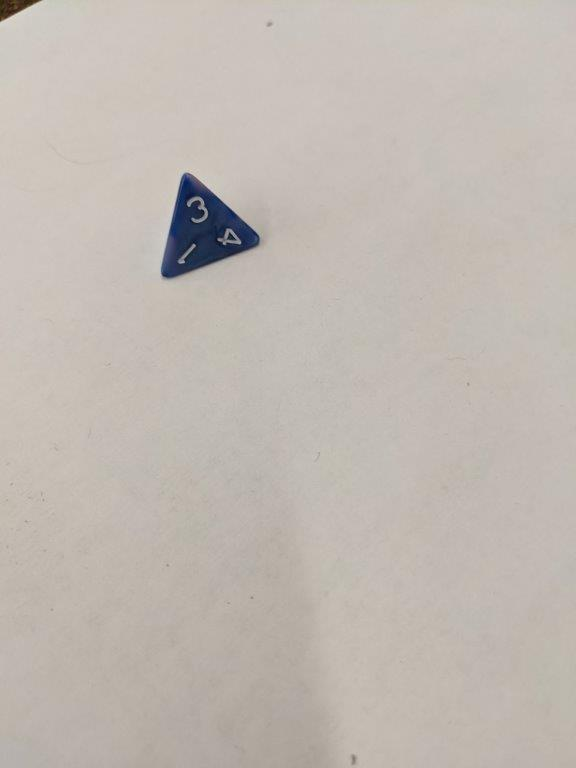d4-3: (159, 170, 262, 279)
